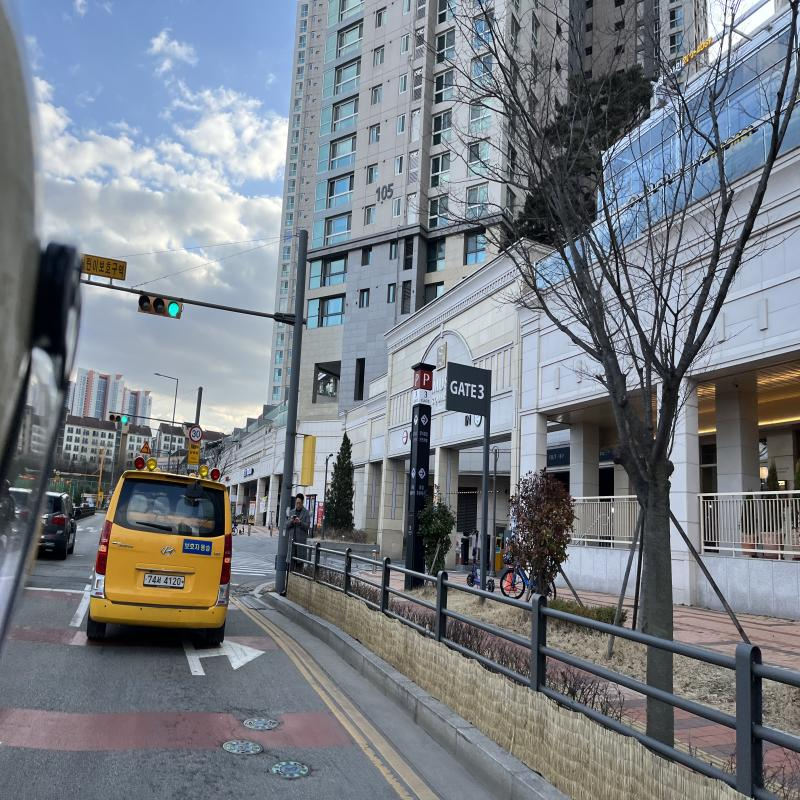green: (167, 302, 180, 317)
